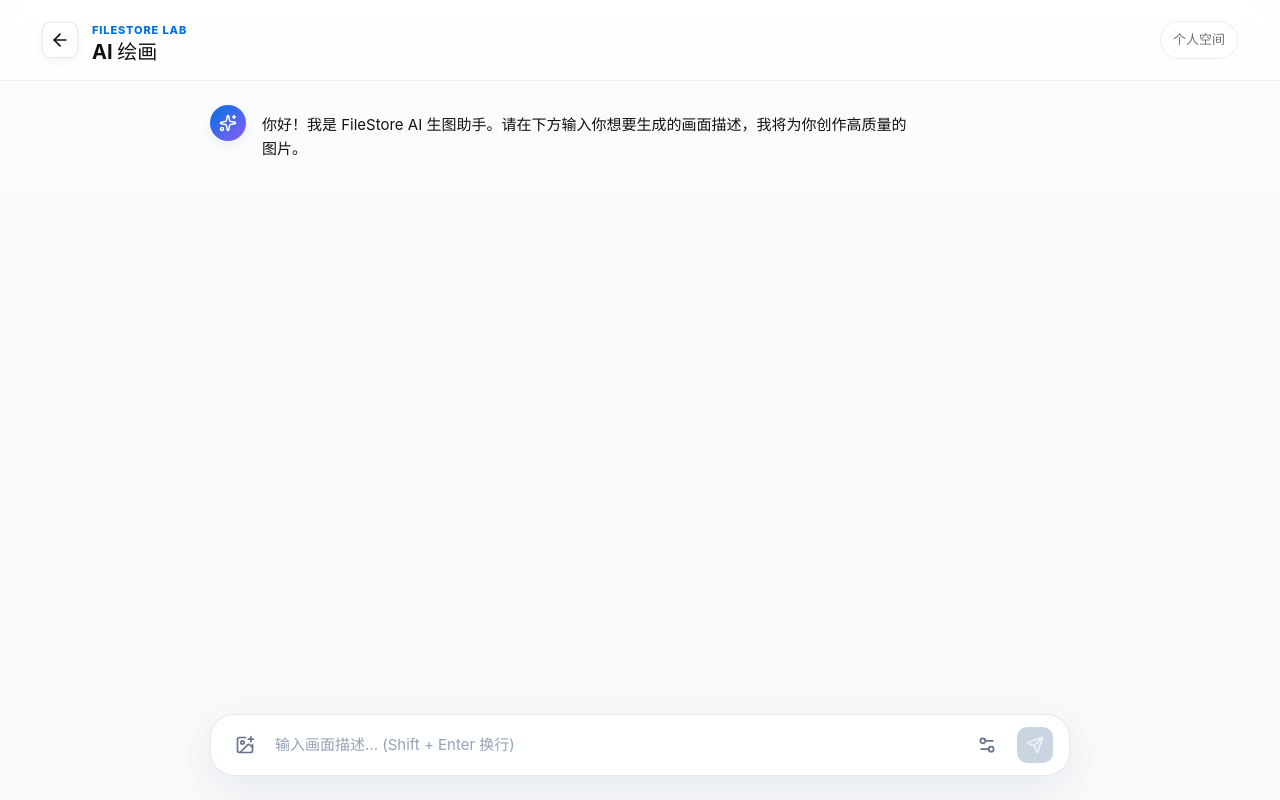
Test: AiImagePage › shows a timeout error when fetch is aborted
Click the button named "生图设置": (987, 745) [969,727,1005,763]
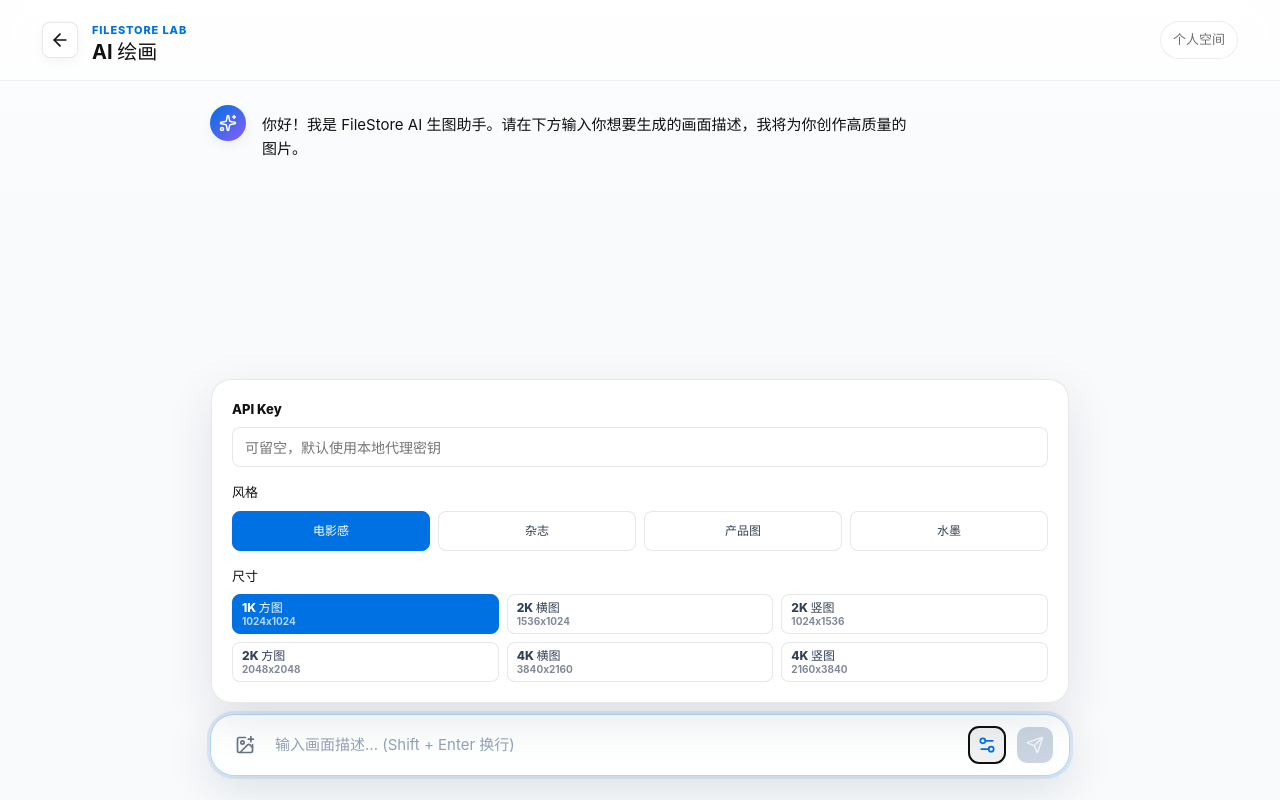
In the password field with placeholder "可留空，默认使用本地代理密钥": (640, 447) [232,427,1048,467], type "sk-test"
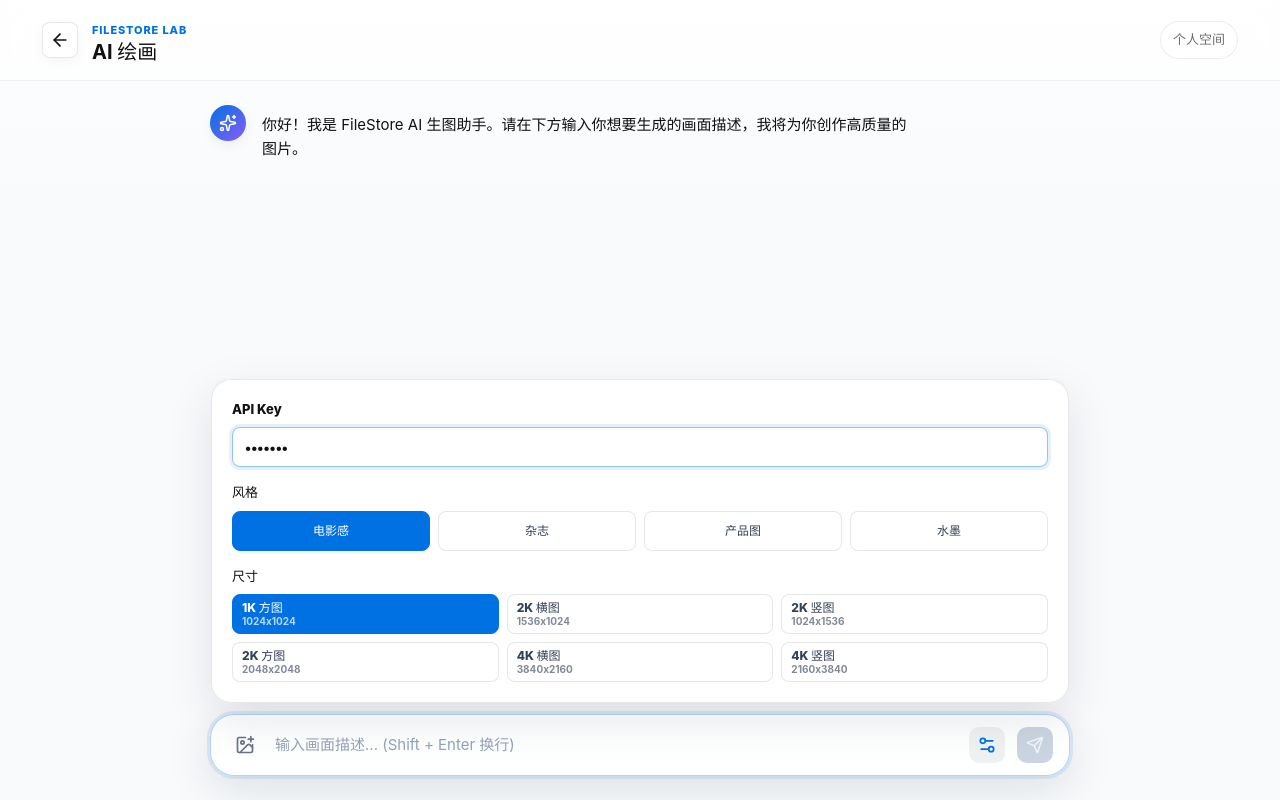
In the text box labelled "输入画面描述": (616, 746) [275,728,957,763], type "A clean commercial poster"
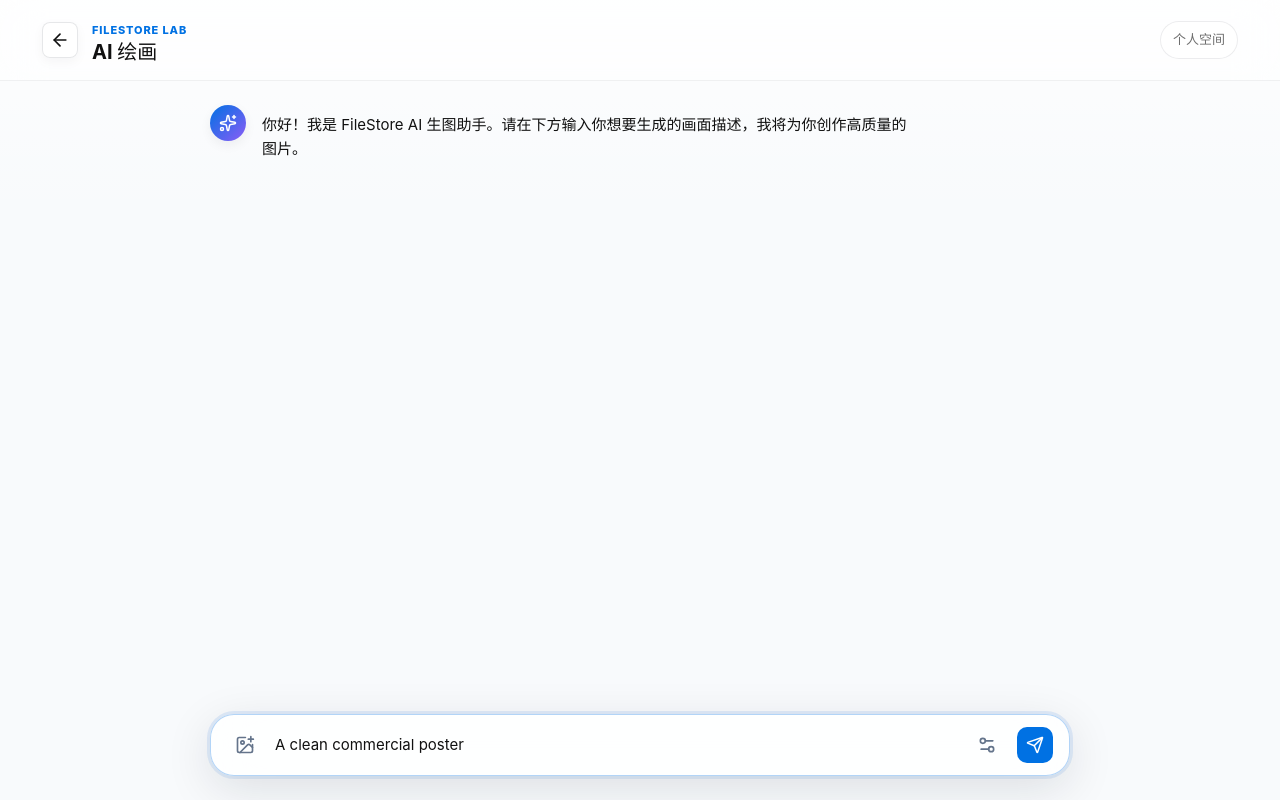
Click the button named "发送": (1035, 745) [1017,727,1053,763]
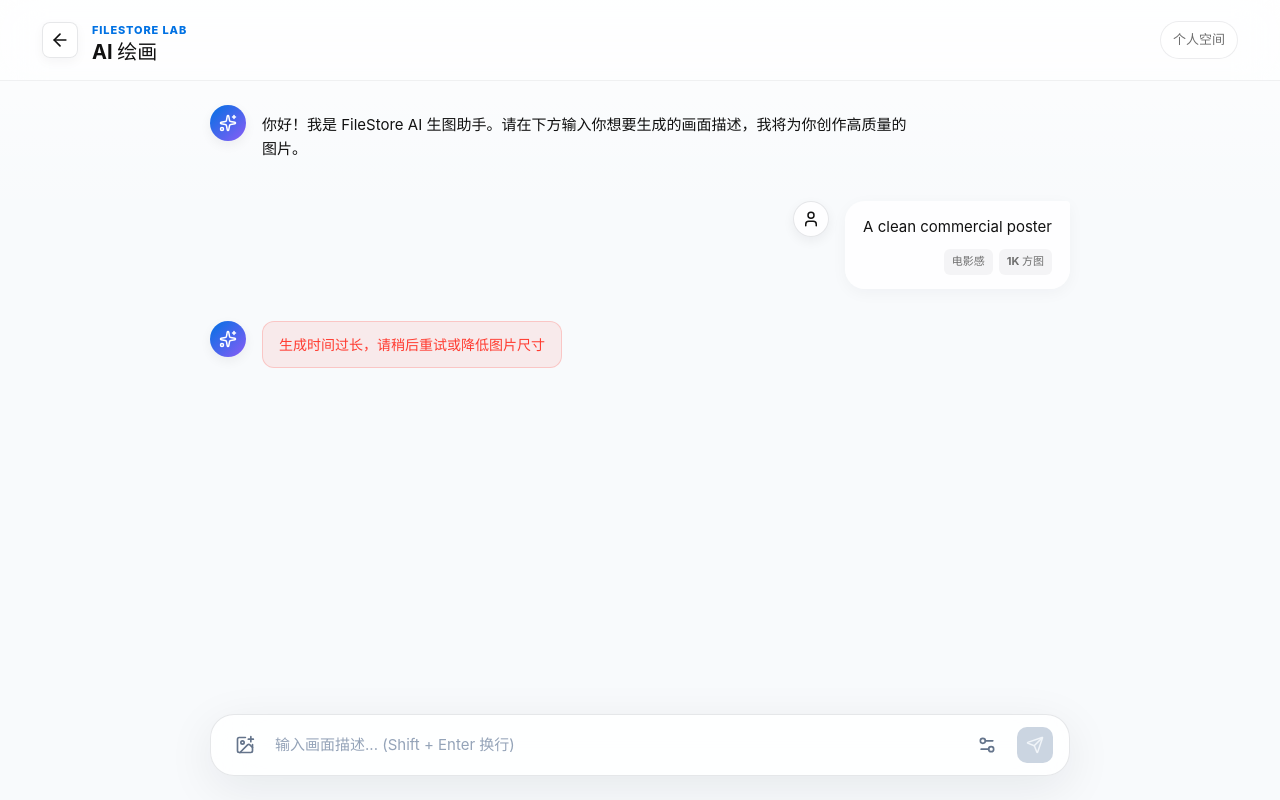
Expected: the text "生成时间过长，请稍后重试或降低图片尺寸" is shown, [262,321,562,368]
